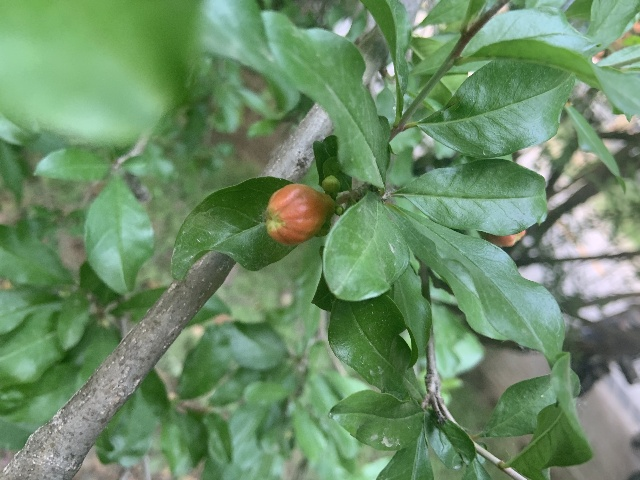bud: (264, 183, 334, 246), (475, 230, 526, 247)
